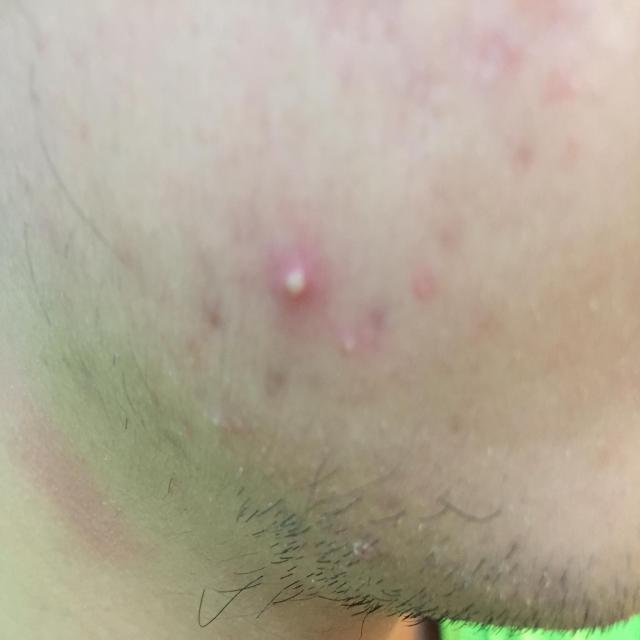blackheads: (264, 243, 324, 315)
